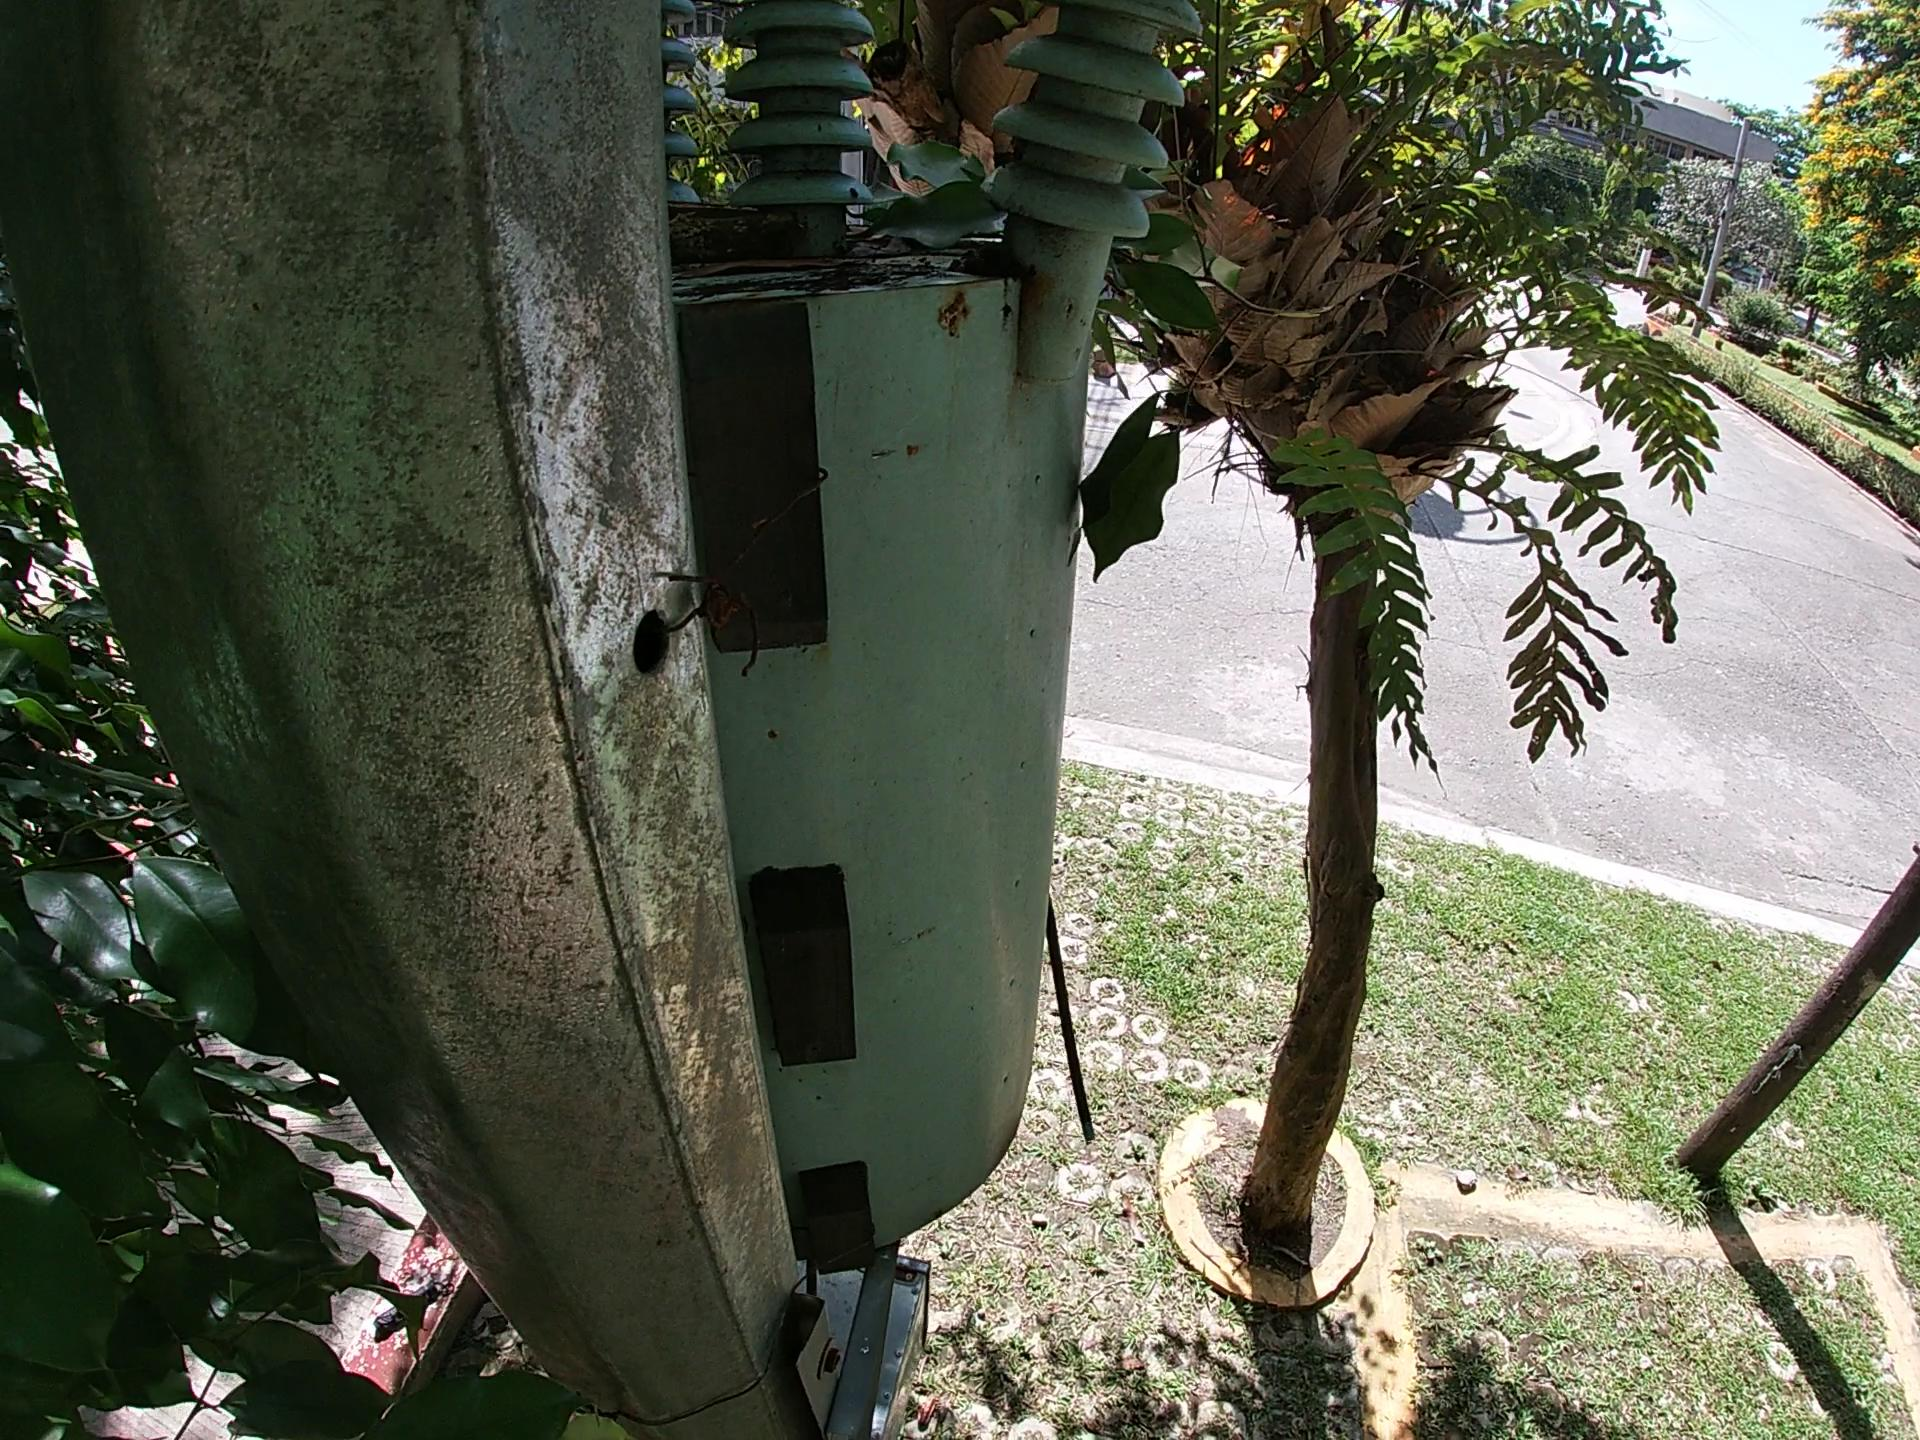branch with leaves: (1067, 82, 1336, 597)
leaf: (851, 82, 1017, 263), (664, 250, 828, 280)
mahogany fruit: (658, 185, 773, 213)
tree branch: (656, 216, 842, 237)
